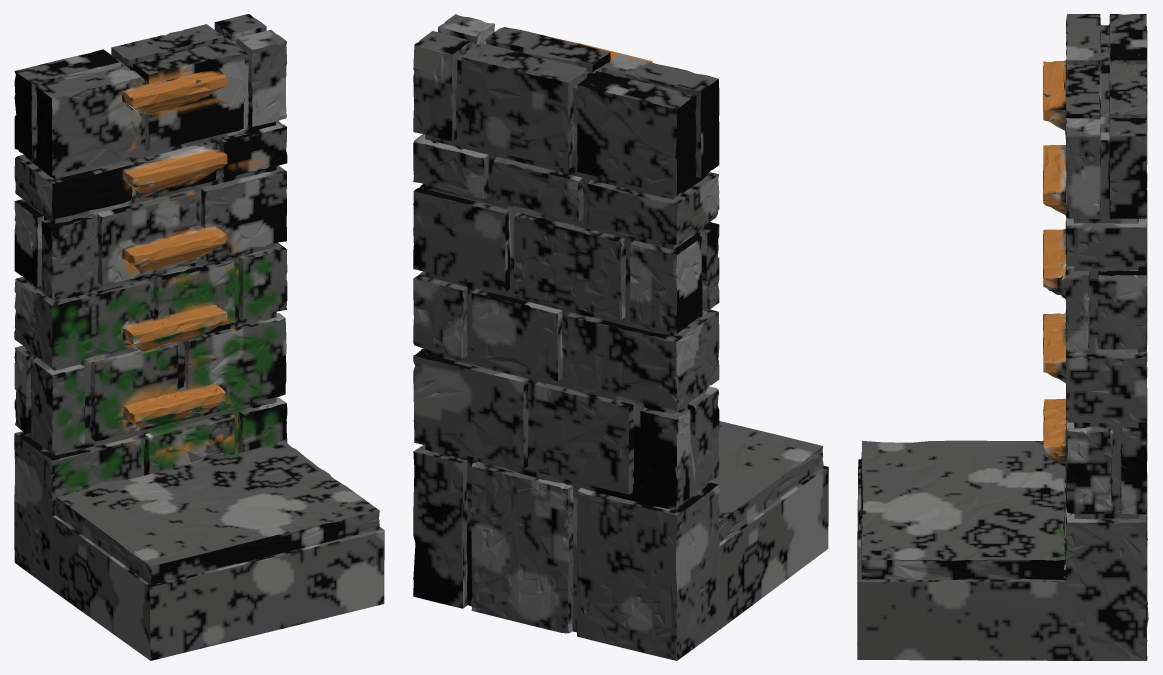
Rendered from wall1_stairs.fbx.
3 renders of one model, left to right at view 1: azimuth 30°, elevation 25°; view 2: azimuth 150°, elevation 25°; view 3: azimuth 270°, elevation 25°, orthographic. The views are drawn at different scales.
Parts seen in each view (by area): view 1: Sewer Ladder-1X1; view 2: Sewer Ladder-1X1; view 3: Sewer Ladder-1X1.
Part boxes in pixels (x1,y1,x2,y2): Sewer Ladder-1X1: (14,14,384,660); Sewer Ladder-1X1: (413,14,828,660); Sewer Ladder-1X1: (857,14,1148,660).
Bounding box in the file's own units: 2501 × 5000 × 2512.
Materials: 1 (1 with a texture image).
